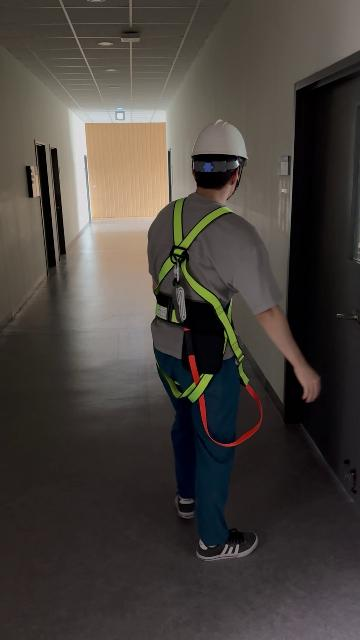helmet_worn: (190, 118, 249, 161)
shoe_not_worn: (196, 528, 258, 561), (174, 490, 195, 519)
vest_worn: (153, 206, 240, 378)
